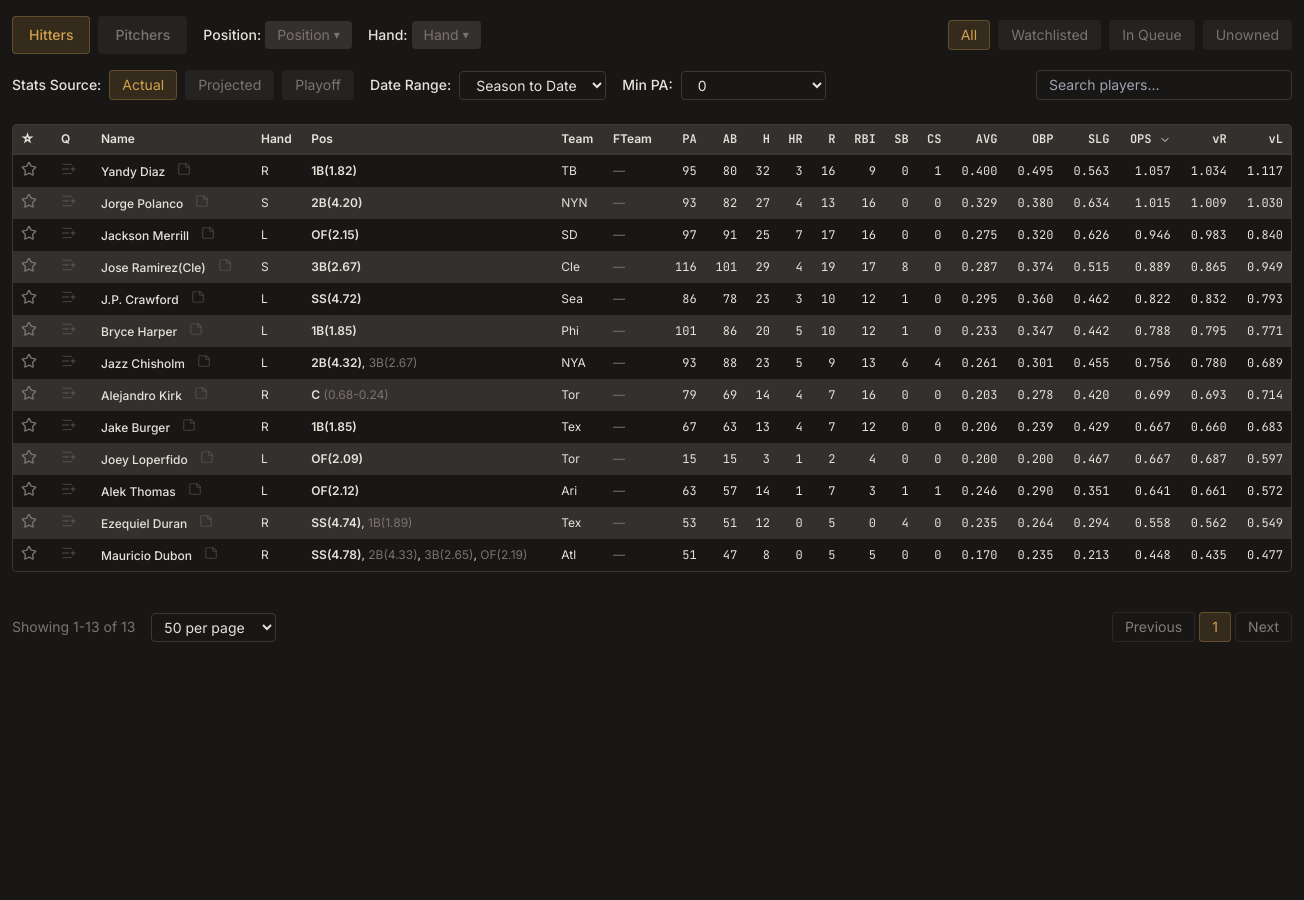
Test case: PlayersTable › position filter reduces visible rows via dropdown
# Open the Position dropdown
Click the button "Position ▾".
click(309, 35)  # box [265, 21, 352, 49]
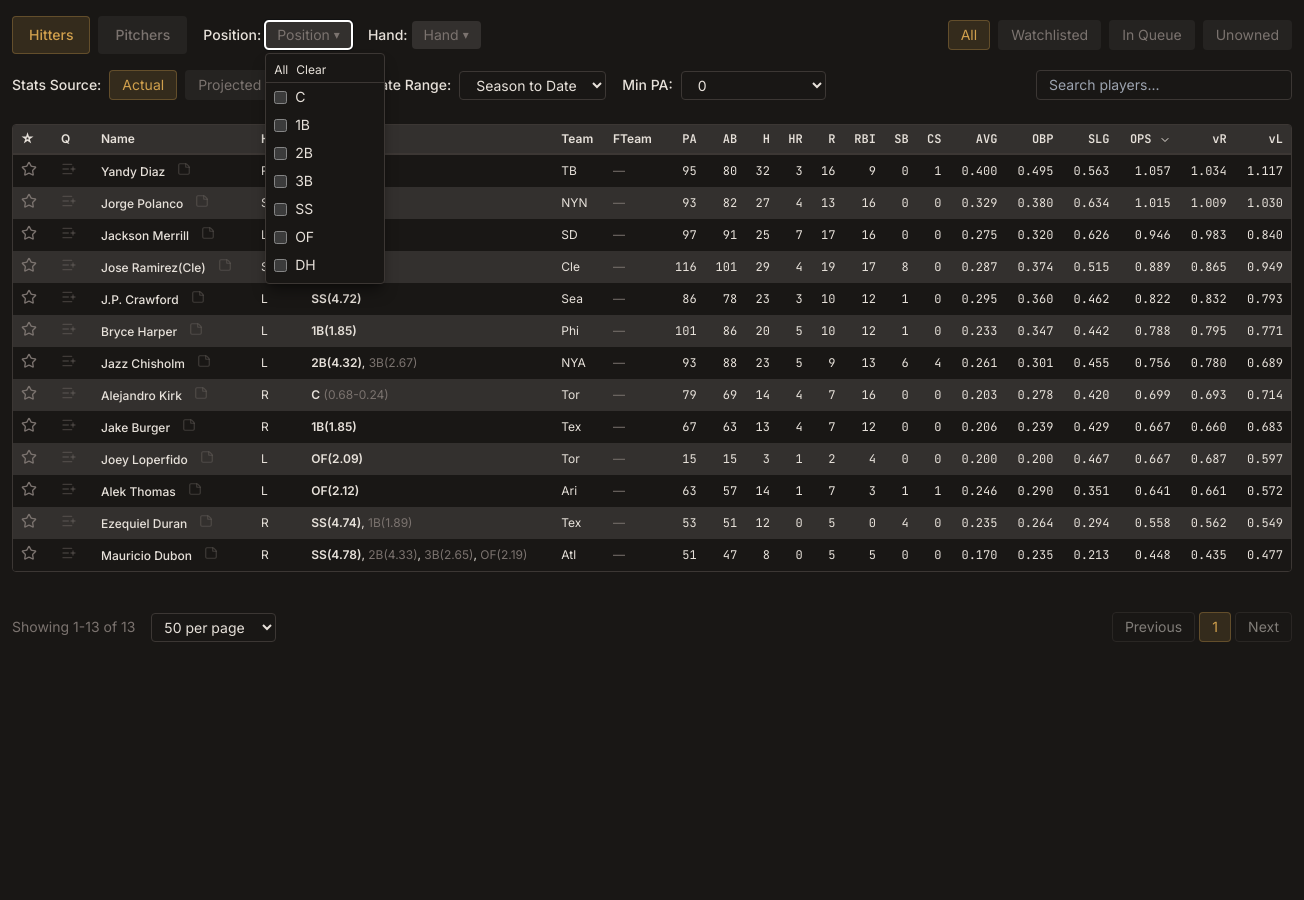
# Click the "C" checkbox
Click the checkbox labelled "C".
click(281, 97)  # box [274, 90, 287, 104]
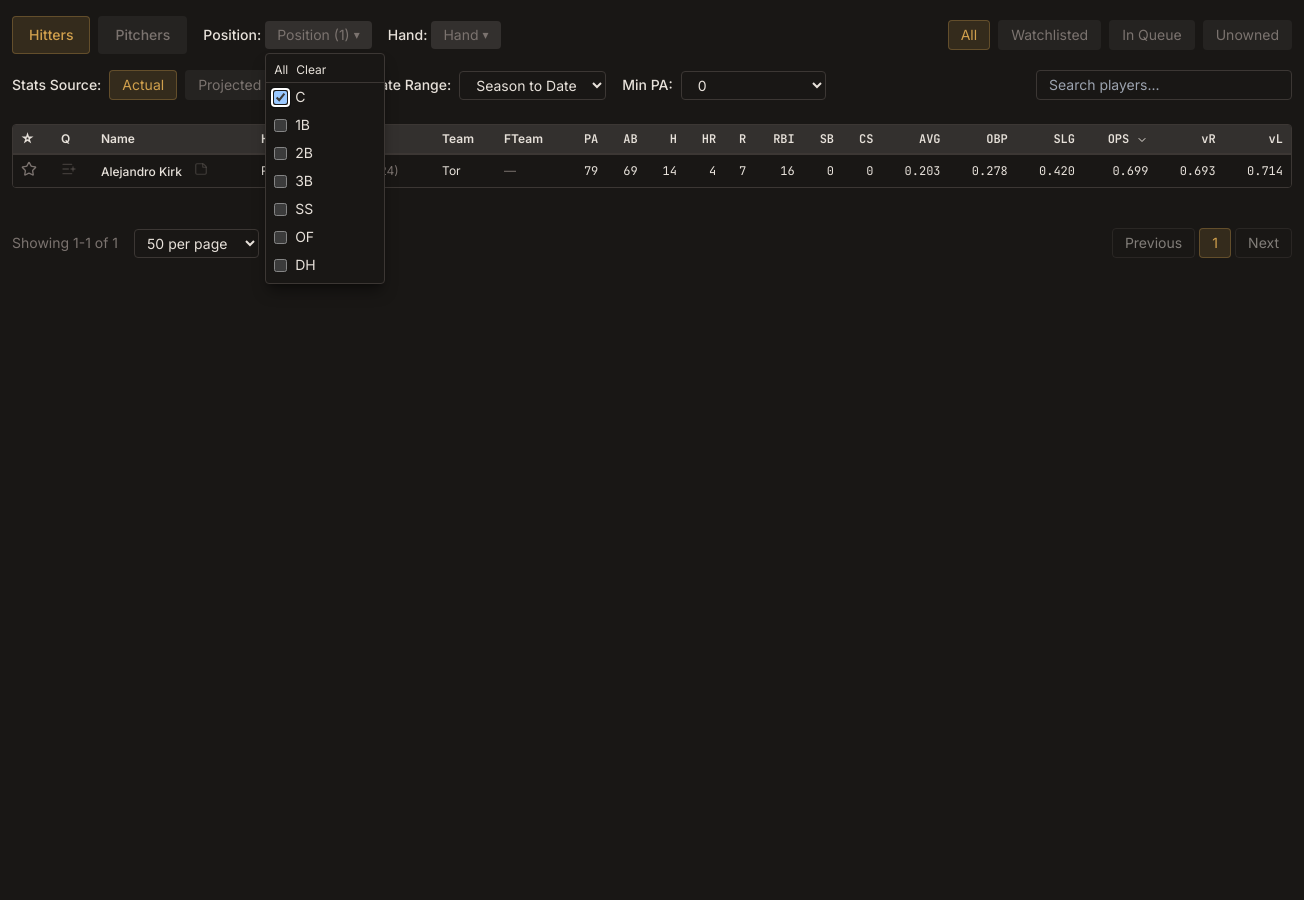
expect the link "Alejandro Kirk" is shown: met, box [101, 164, 182, 179]
expect the link "Bryce Harper" is gone: met
